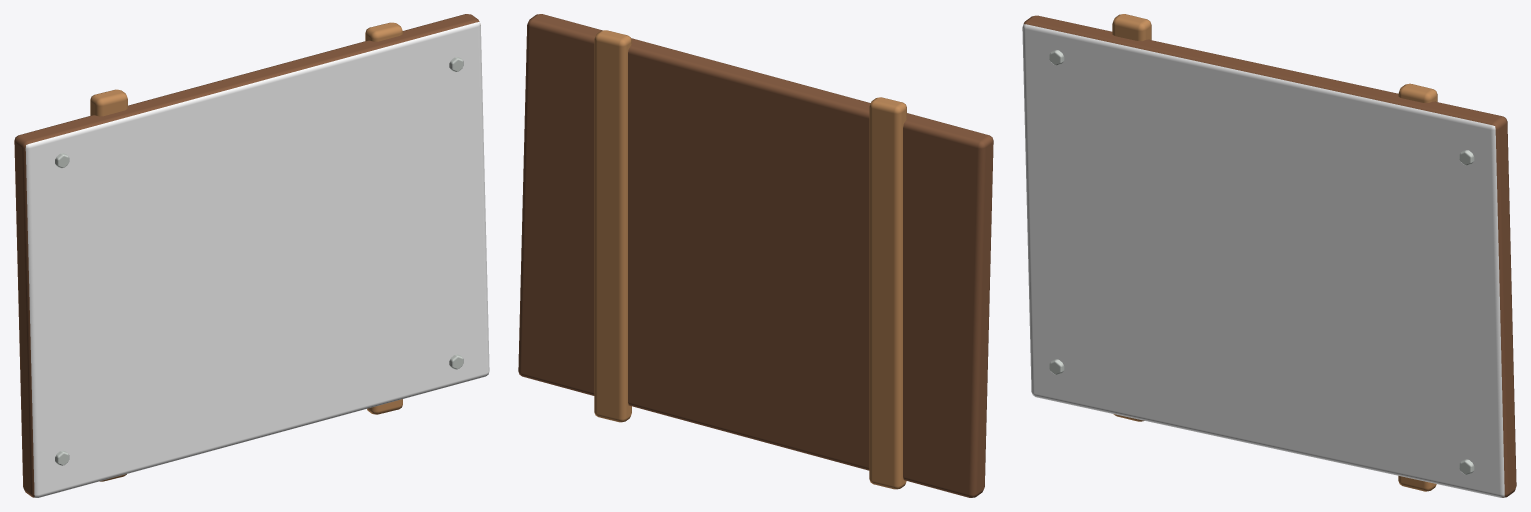
The model's file is prop_sign_brgy.glb.
3 views of the same model, side by side, from view 1: azimuth 30°, elevation 25°; view 2: azimuth 150°, elevation 25°; view 3: azimuth 330°, elevation 25° (orthographic). The views are drawn at different scales.
Parts seen in each view (by area): view 1: prop_sign_brgy; view 2: prop_sign_brgy; view 3: prop_sign_brgy.
Part boxes in pixels (<box>): prop_sign_brgy: <box>14,14,489,497</box>; prop_sign_brgy: <box>518,14,993,497</box>; prop_sign_brgy: <box>1022,14,1516,497</box>.
Bounding box in the file's own units: 1.02 × 0.8 × 0.075.
